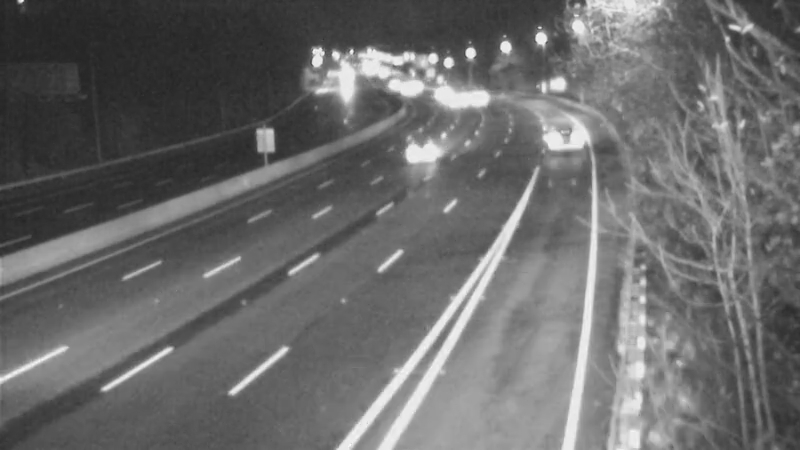vehicle: (382, 111, 462, 191), (367, 58, 417, 108), (384, 65, 434, 115), (412, 65, 462, 115), (458, 72, 508, 122), (430, 76, 480, 126), (535, 109, 585, 159)
